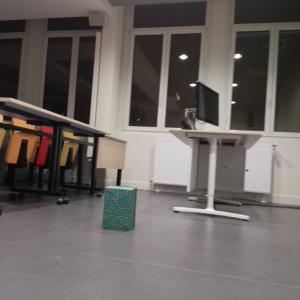small: (99, 183, 139, 233)
